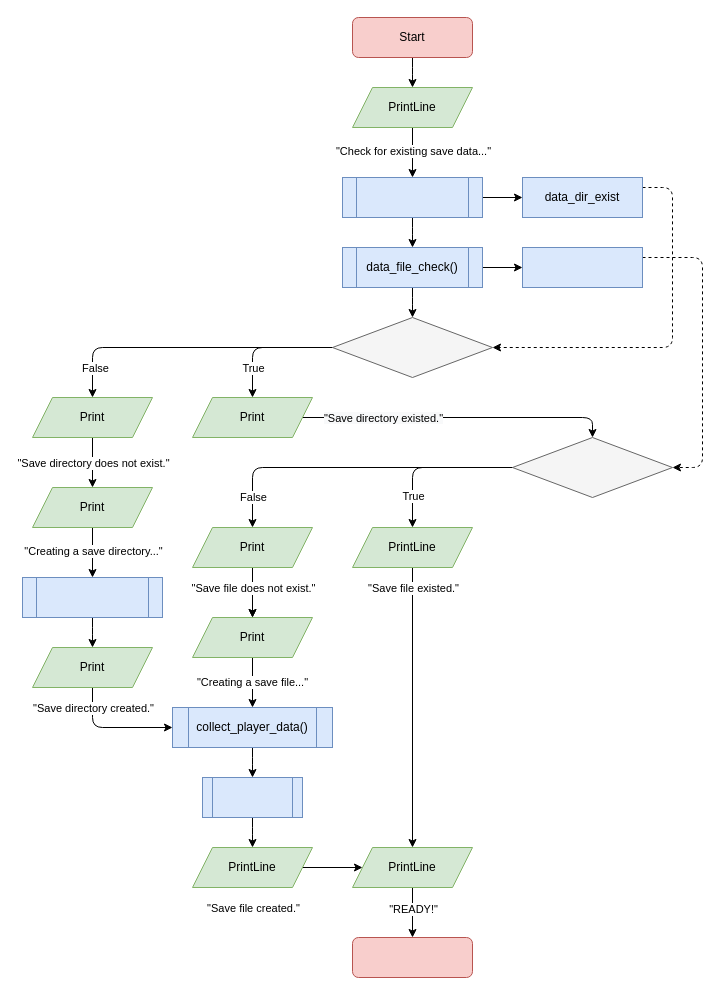
This 728x995 diagram has some shape labels left out. The centre of each missing label's shape, as x and y in pixels:
"data_dir_check()" belongs at point (412, 197).
"data_dir_create()" belongs at point (92, 597).
"data_file_exist" belongs at point (582, 267).
"data_save()" belongs at point (252, 797).
"Save directory exists" belongs at point (412, 347).
"Save file exists" belongs at point (592, 467).
"Stop" belongs at point (412, 957).
